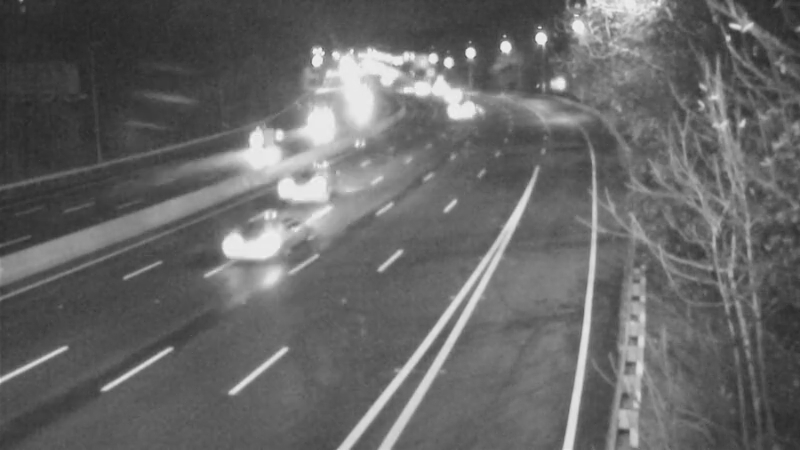vehicle: (258, 138, 338, 218), (222, 210, 302, 290), (397, 61, 447, 111), (432, 74, 482, 124), (431, 88, 481, 138), (241, 120, 291, 170), (297, 108, 347, 158)
